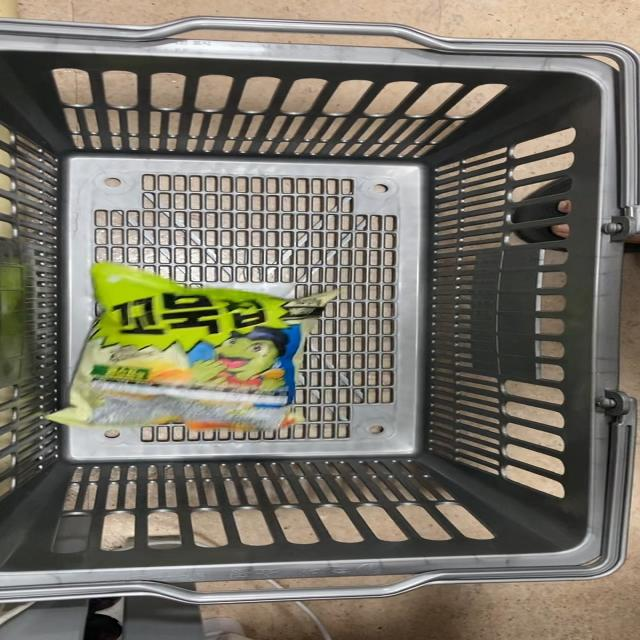ggobukchip: (30, 258, 357, 440)
